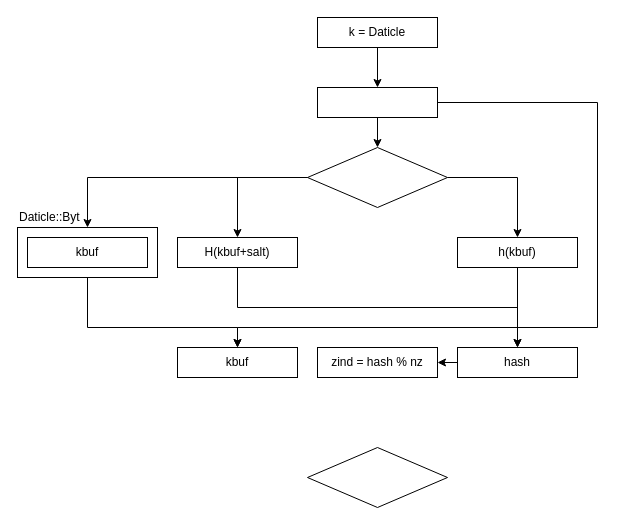
Some shapes in this 623 by 525 pixel diagram are drawn without their labels. The centre of each missing label's shape, as x and y in pixels:
"Chunk?" belongs at pixel 377 477.
"Enc?" belongs at pixel 377 177.
"kbuf = k.to_bytes" belongs at pixel 377 102.
